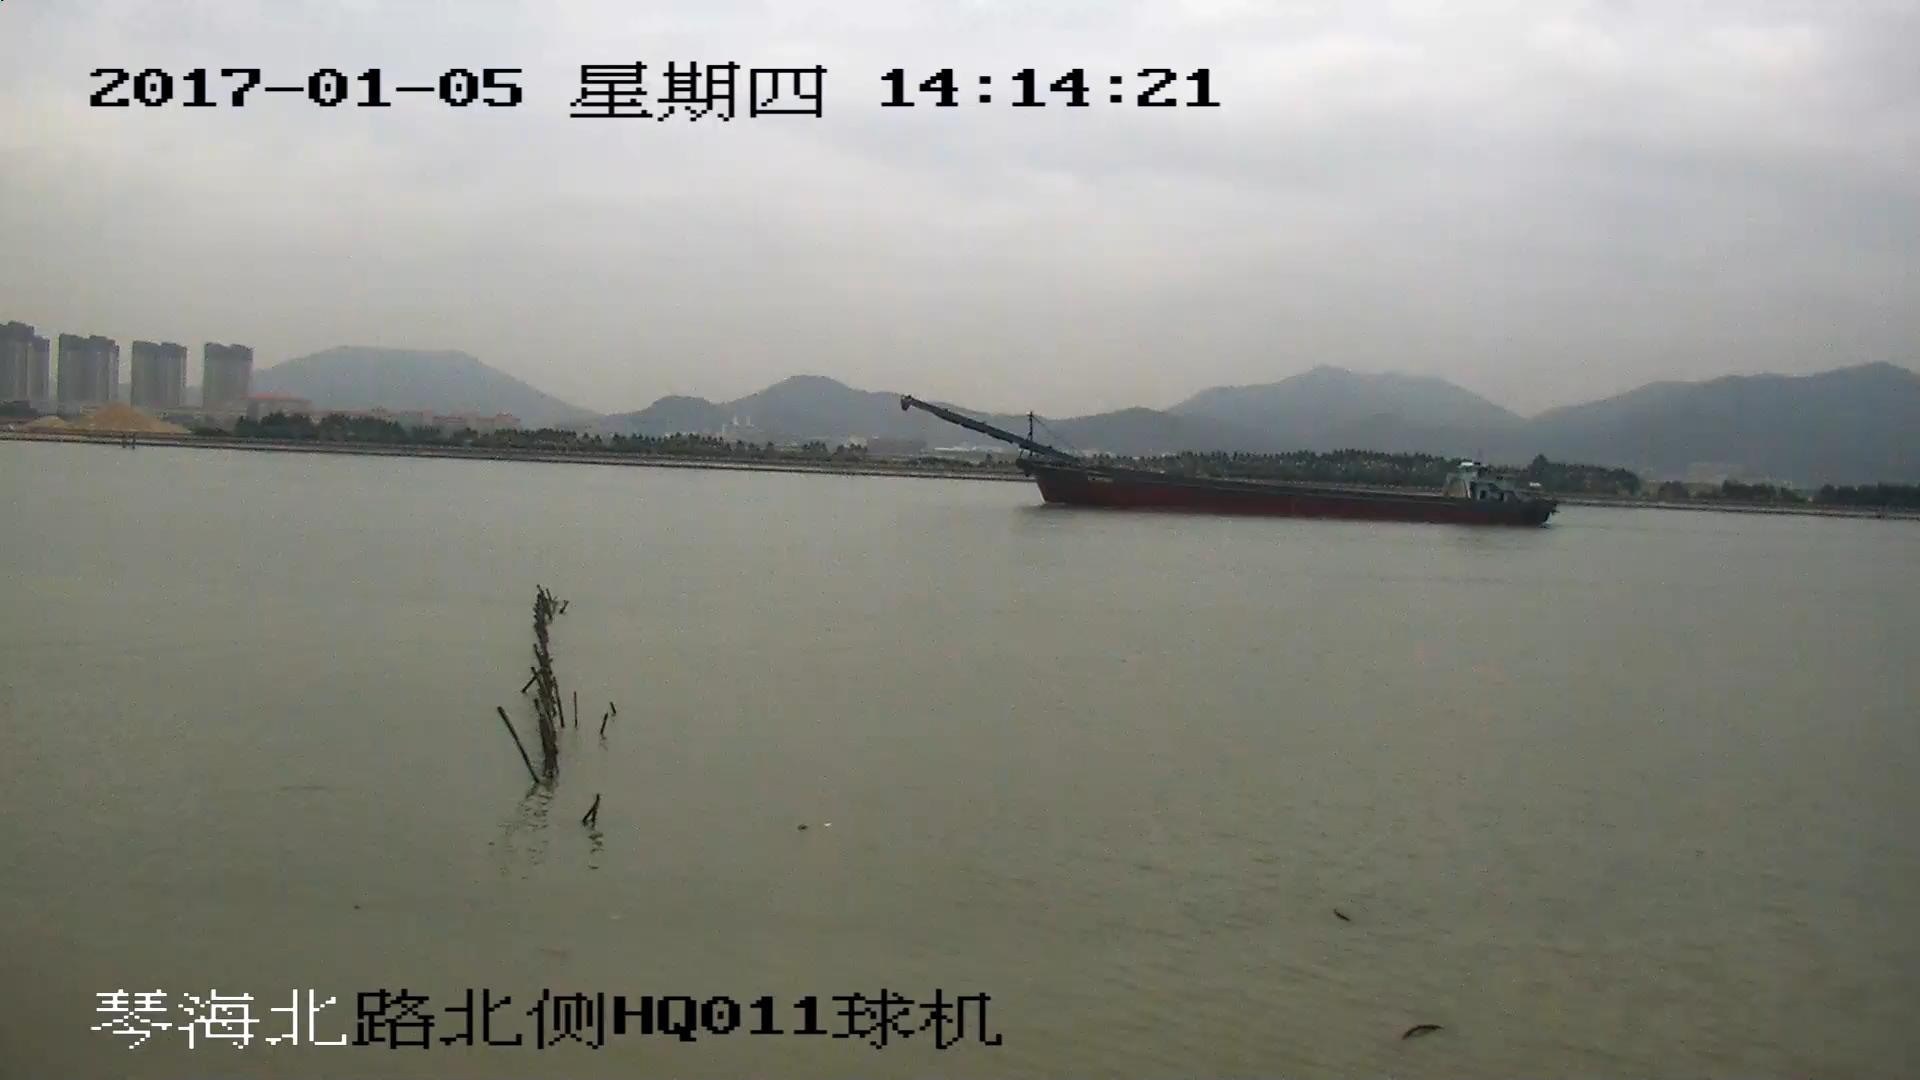Ship: (902, 402, 1552, 527)
